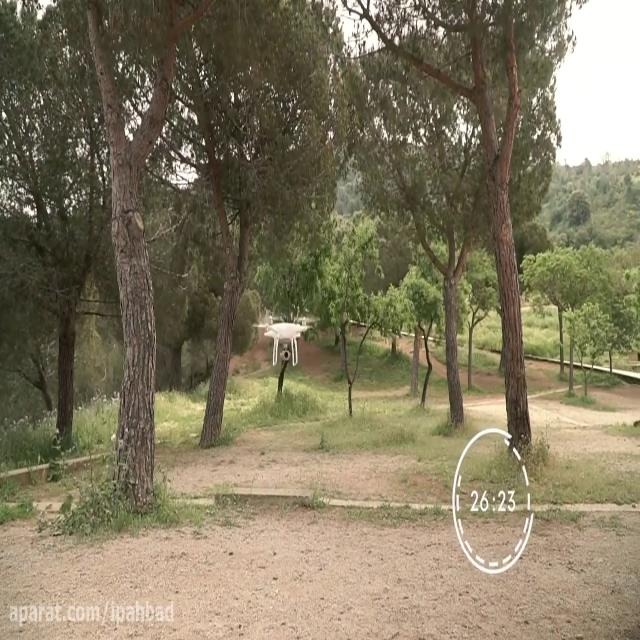drone: (250, 304, 322, 369)
